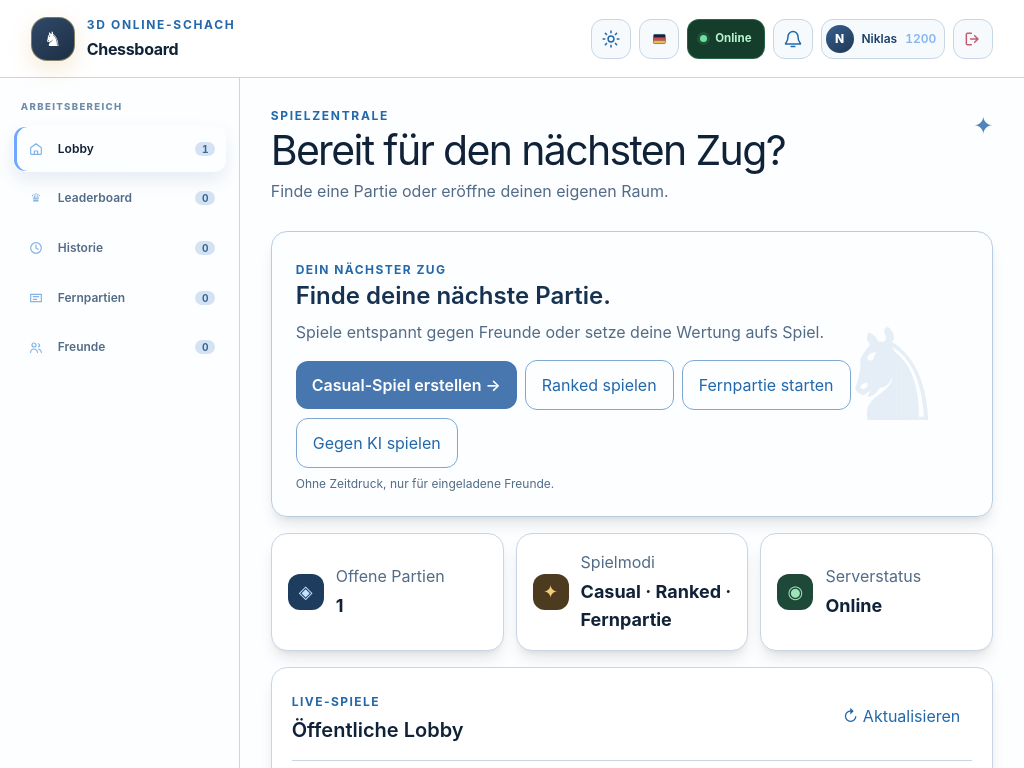
Test case: App › loads the lobby and logs the user out
This screenshot has width=1024, height=768.
Click the button named "Abmelden" at (973, 38), box [953,18,993,58]
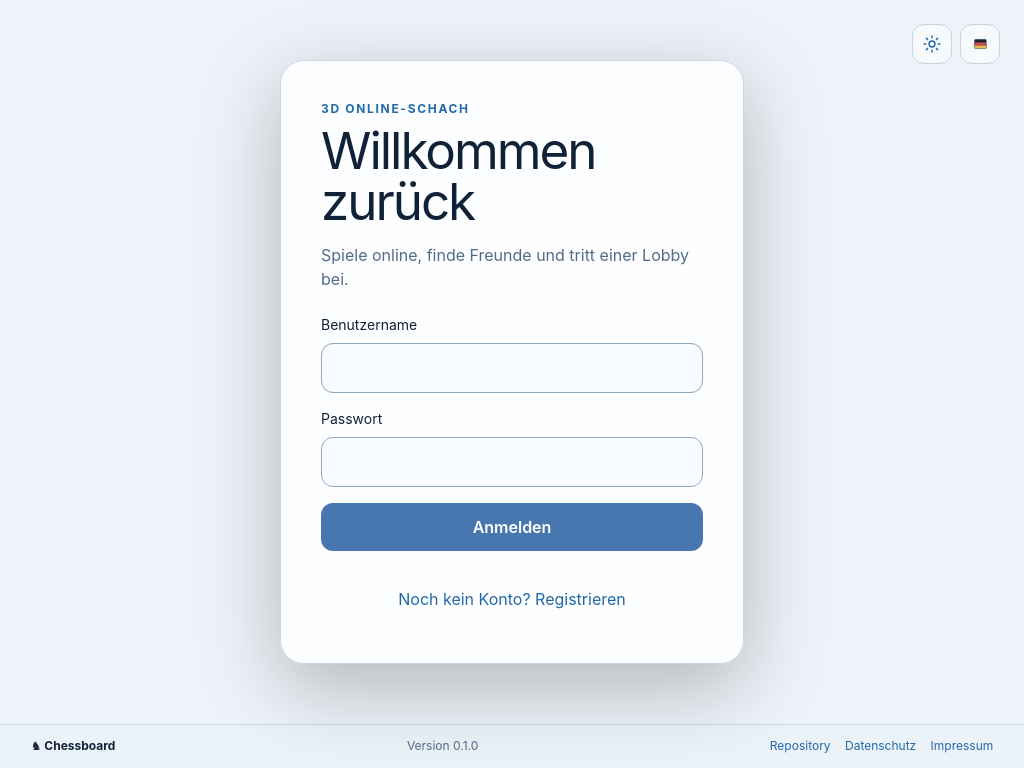
Check: the heading "Willkommen zurück" is shown, box [321,119,596,232]
